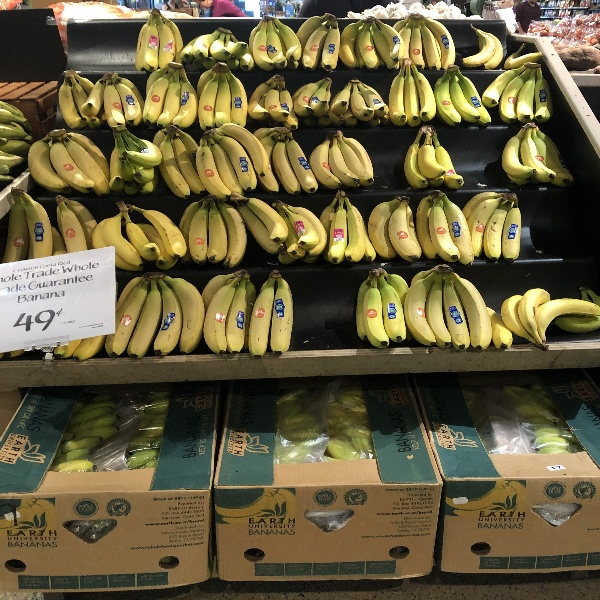void: (284, 269, 367, 346), (61, 14, 147, 71), (521, 188, 588, 259), (459, 121, 507, 186)
